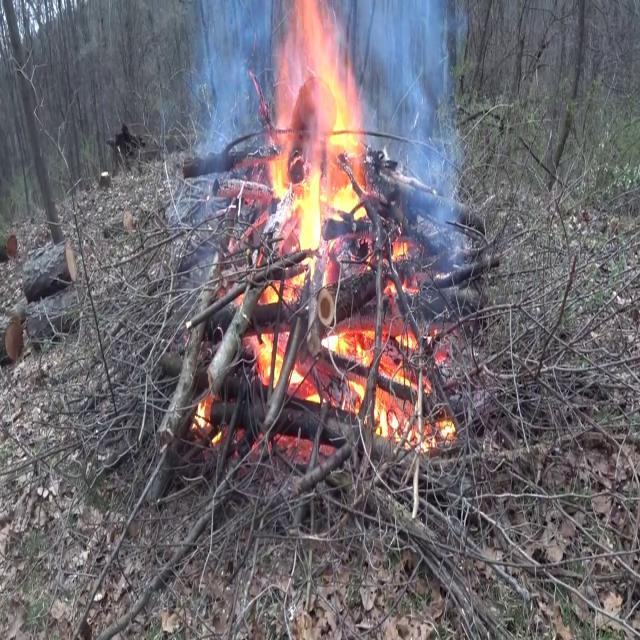Fire: (226, 0, 450, 452), (259, 2, 375, 276)
Smoke: (359, 1, 476, 254)
